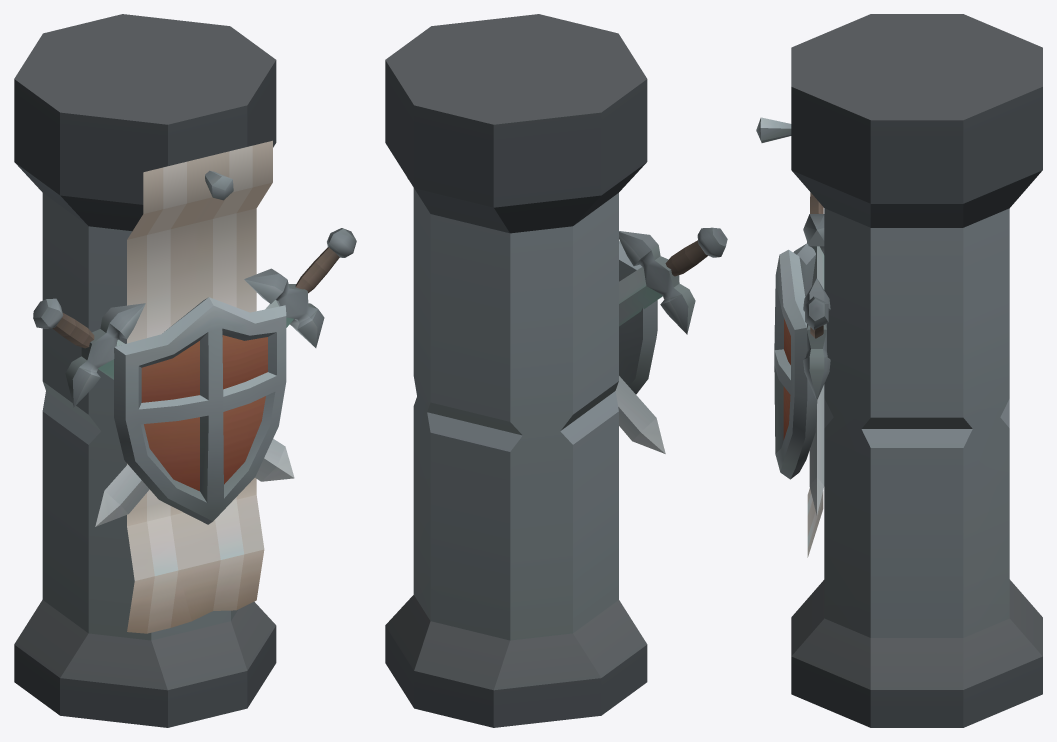
File: pillar_decorated.glb
3 renders of one model, left to right at view 1: azimuth 30°, elevation 25°; view 2: azimuth 150°, elevation 25°; view 3: azimuth 270°, elevation 25°, orthographic.
Visible parts, largest first — view 1: pillar_decorated; view 2: pillar_decorated; view 3: pillar_decorated.
Part boxes in pixels (left/top/right/bottom): pillar_decorated: left=14, top=14, right=356, bottom=727; pillar_decorated: left=385, top=14, right=727, bottom=727; pillar_decorated: left=756, top=14, right=1042, bottom=727.
Bounding box in the file's own units: 2.23 × 4 × 1.71.
Materials: 1 (1 with a texture image).
